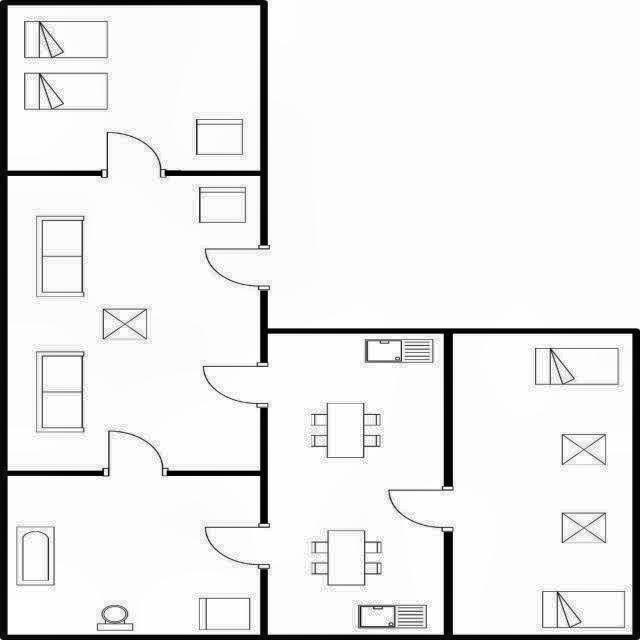room: (8, 176, 260, 471), (453, 334, 633, 635), (268, 333, 444, 635), (8, 5, 260, 170), (7, 476, 260, 635)
